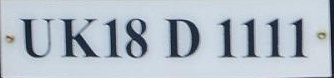character: (58, 14, 101, 59), (164, 15, 201, 60), (19, 14, 55, 59), (124, 17, 149, 60), (287, 16, 310, 60), (262, 15, 283, 59), (239, 17, 260, 60), (102, 17, 122, 61), (215, 17, 235, 60)
